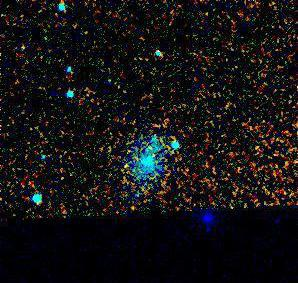star: (111, 150, 141, 180)
